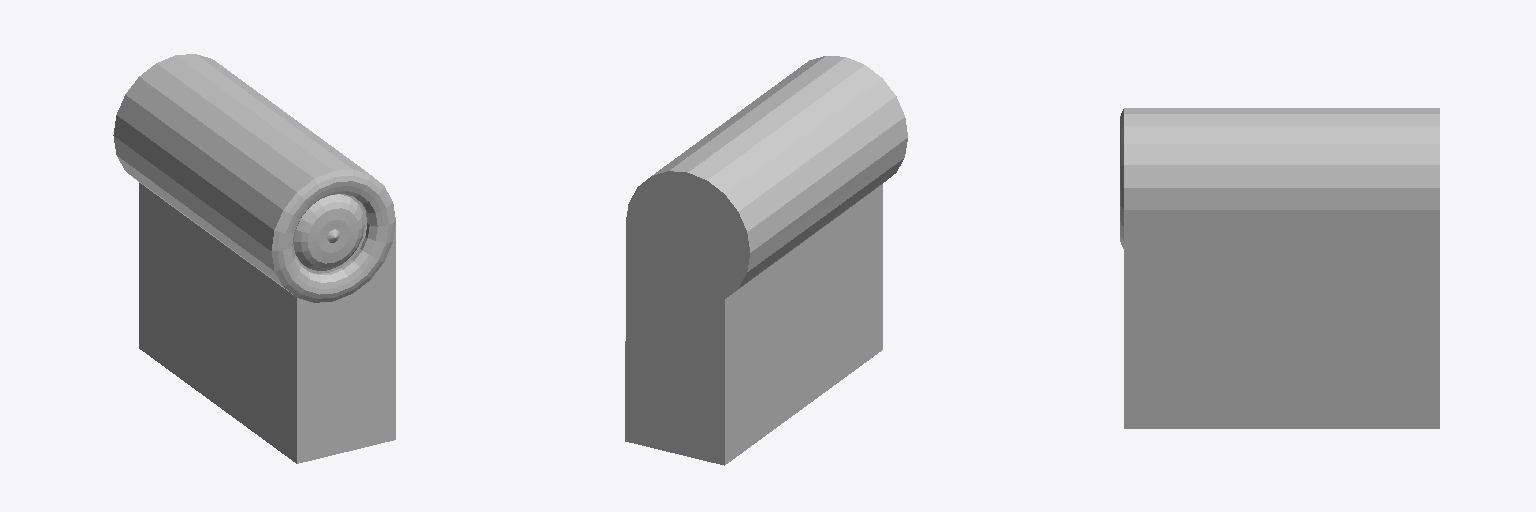
The model's file is couch_ArmRest_2.obj.
The picture shows the model from 3 angles: view 1: azimuth 30°, elevation 25°; view 2: azimuth 150°, elevation 25°; view 3: azimuth 270°, elevation 25°; orthographic projection.
Bounding box in the file's own units: 2.33 × 5.07 × 5.18.